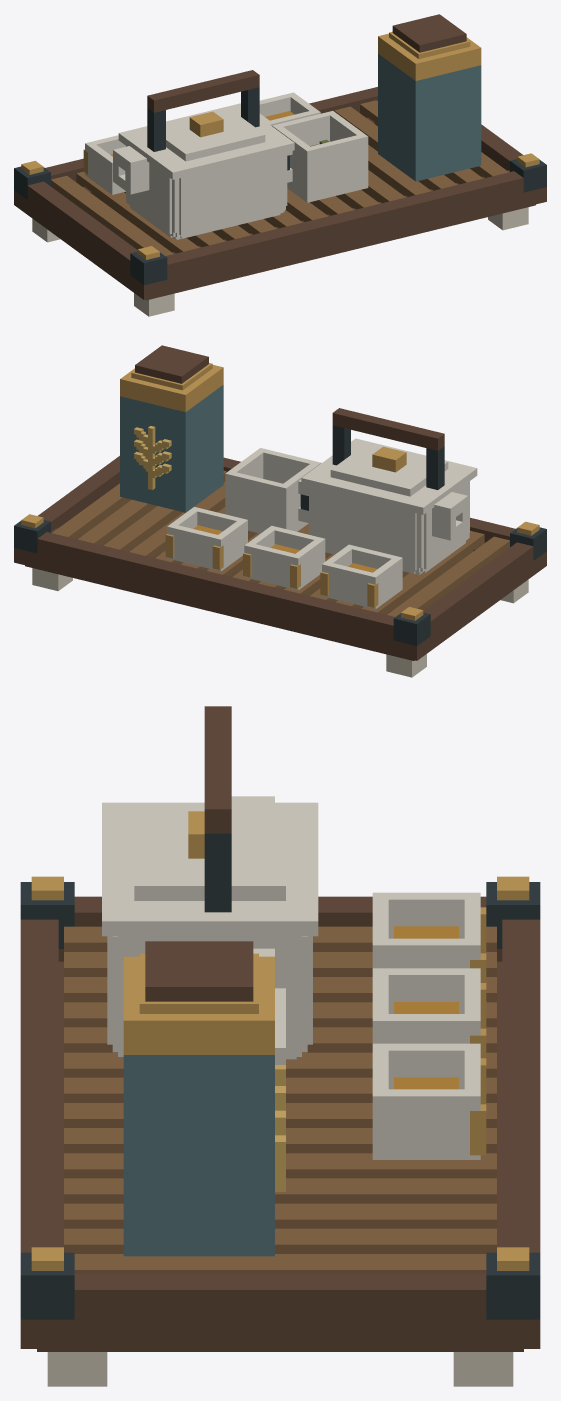
File: LIFE-192.glb
3 renders of one model, top to bottom at view 1: azimuth 30°, elevation 25°; view 2: azimuth 150°, elevation 25°; view 3: azimuth 270°, elevation 25°, orthographic. The views are drawn at different scales.
Visible parts, largest first — view 1: 社区茶室器具; view 2: 社区茶室器具; view 3: 社区茶室器具.
Boxes of the visible parts, x1,y1,x2,y2 form: 社区茶室器具: (14,14,546,316); 社区茶室器具: (14,345,546,677); 社区茶室器具: (20,706,540,1386).
Size of the model in its own units: 0.86 by 0.37 by 0.48.
10 materials, 10 textured.
